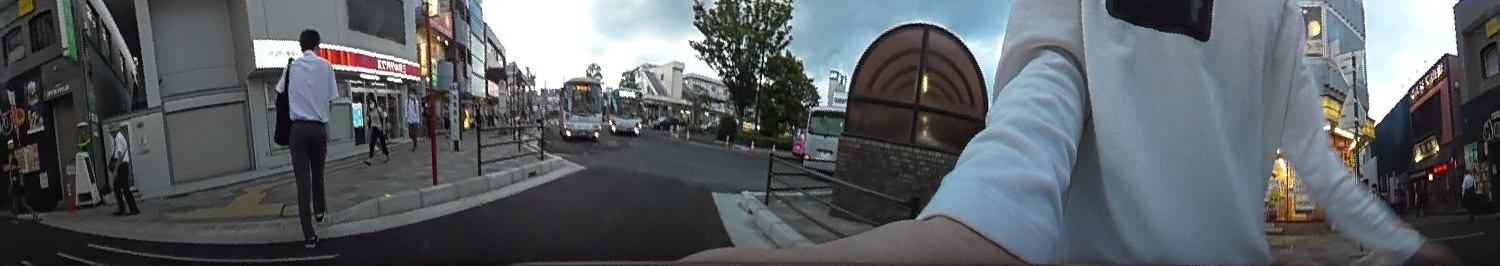difficult_person: (1408, 177, 1432, 219), (531, 101, 544, 130)
person: (103, 118, 146, 217), (1, 149, 43, 224), (360, 92, 391, 165), (398, 82, 425, 151), (1459, 166, 1480, 219)
